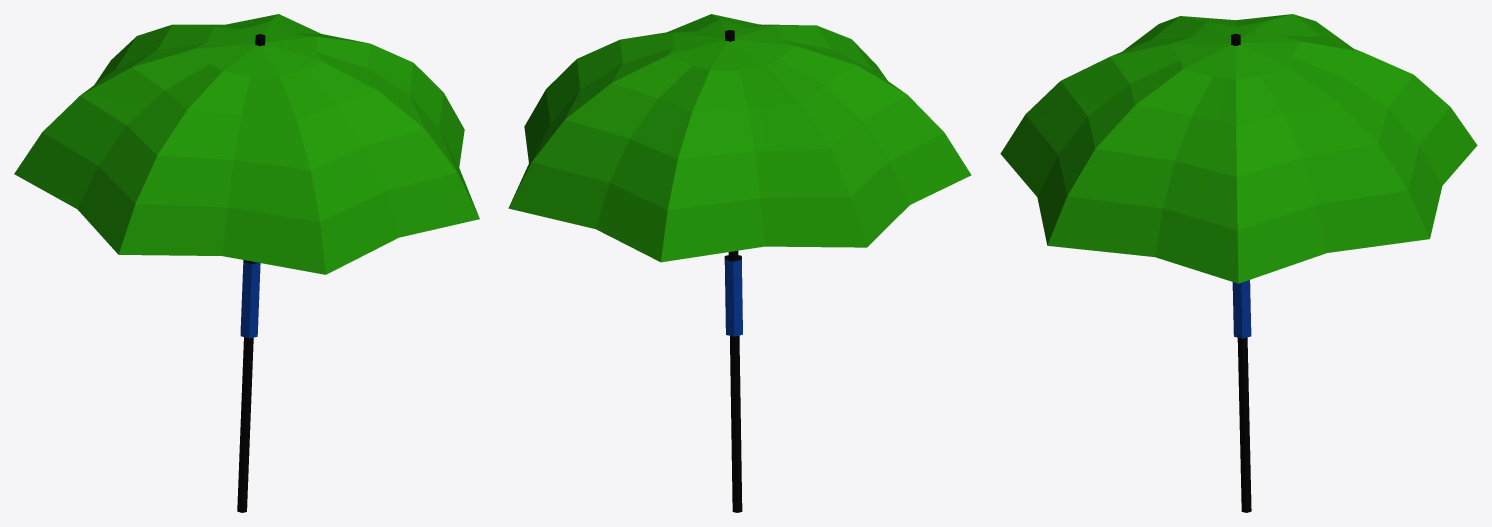
The model's file is Umbrella_KW.fbx.
3 views of the same model, side by side, from view 1: azimuth 30°, elevation 25°; view 2: azimuth 150°, elevation 25°; view 3: azimuth 270°, elevation 25° (orthographic).
Parts seen in each view (by area): view 1: Umbrella_KW; view 2: Umbrella_KW; view 3: Umbrella_KW.
Boxes of the visible parts, left/top/right/bottom form: Umbrella_KW: left=14, top=14, right=479, bottom=512; Umbrella_KW: left=508, top=14, right=971, bottom=512; Umbrella_KW: left=1000, top=14, right=1477, bottom=512.
Size of the model in its own units: 273 by 312 by 280.
